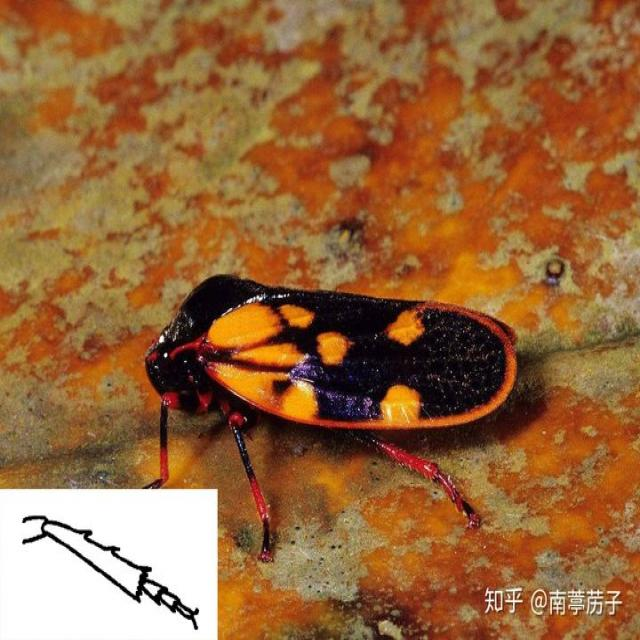Yechan: (136, 255, 538, 540)
